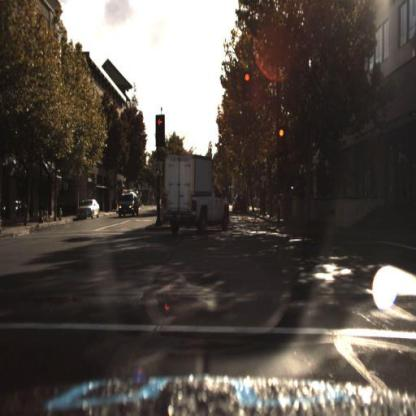car: (164, 150, 231, 236), (78, 192, 101, 220), (77, 198, 101, 222), (118, 194, 138, 218), (235, 197, 247, 214)
trafficLight: (245, 72, 251, 97)
trafficLight-Red: (278, 131, 286, 154)
trafficLight-RedLeft: (157, 115, 166, 145)
